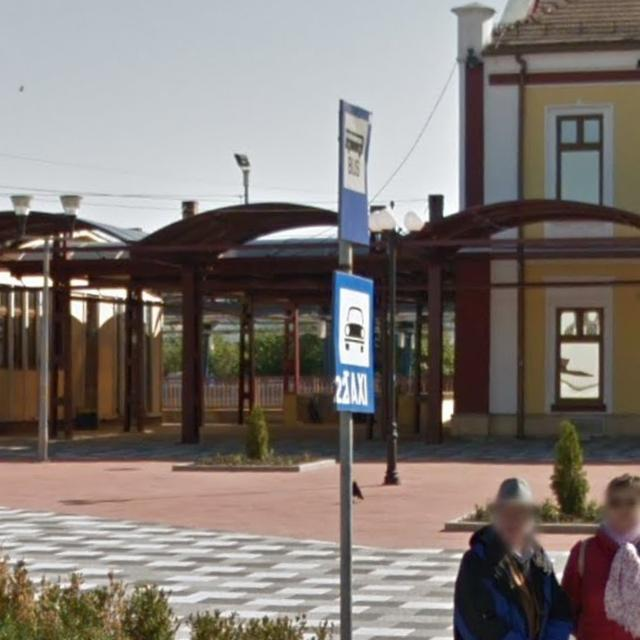info_bus_station: (339, 99, 372, 249)
info_taxi_parking: (334, 270, 375, 413)
